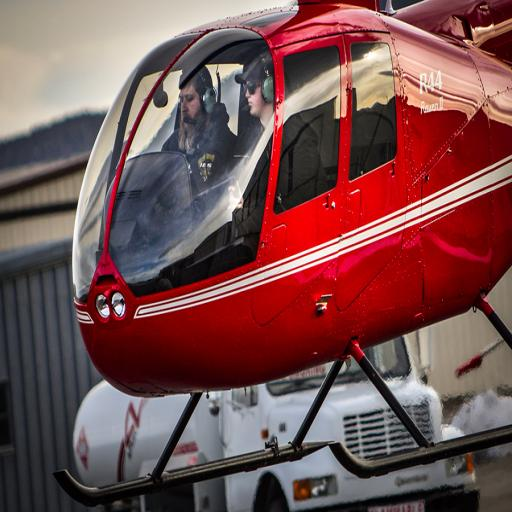helicopter: (47, 11, 504, 500)
